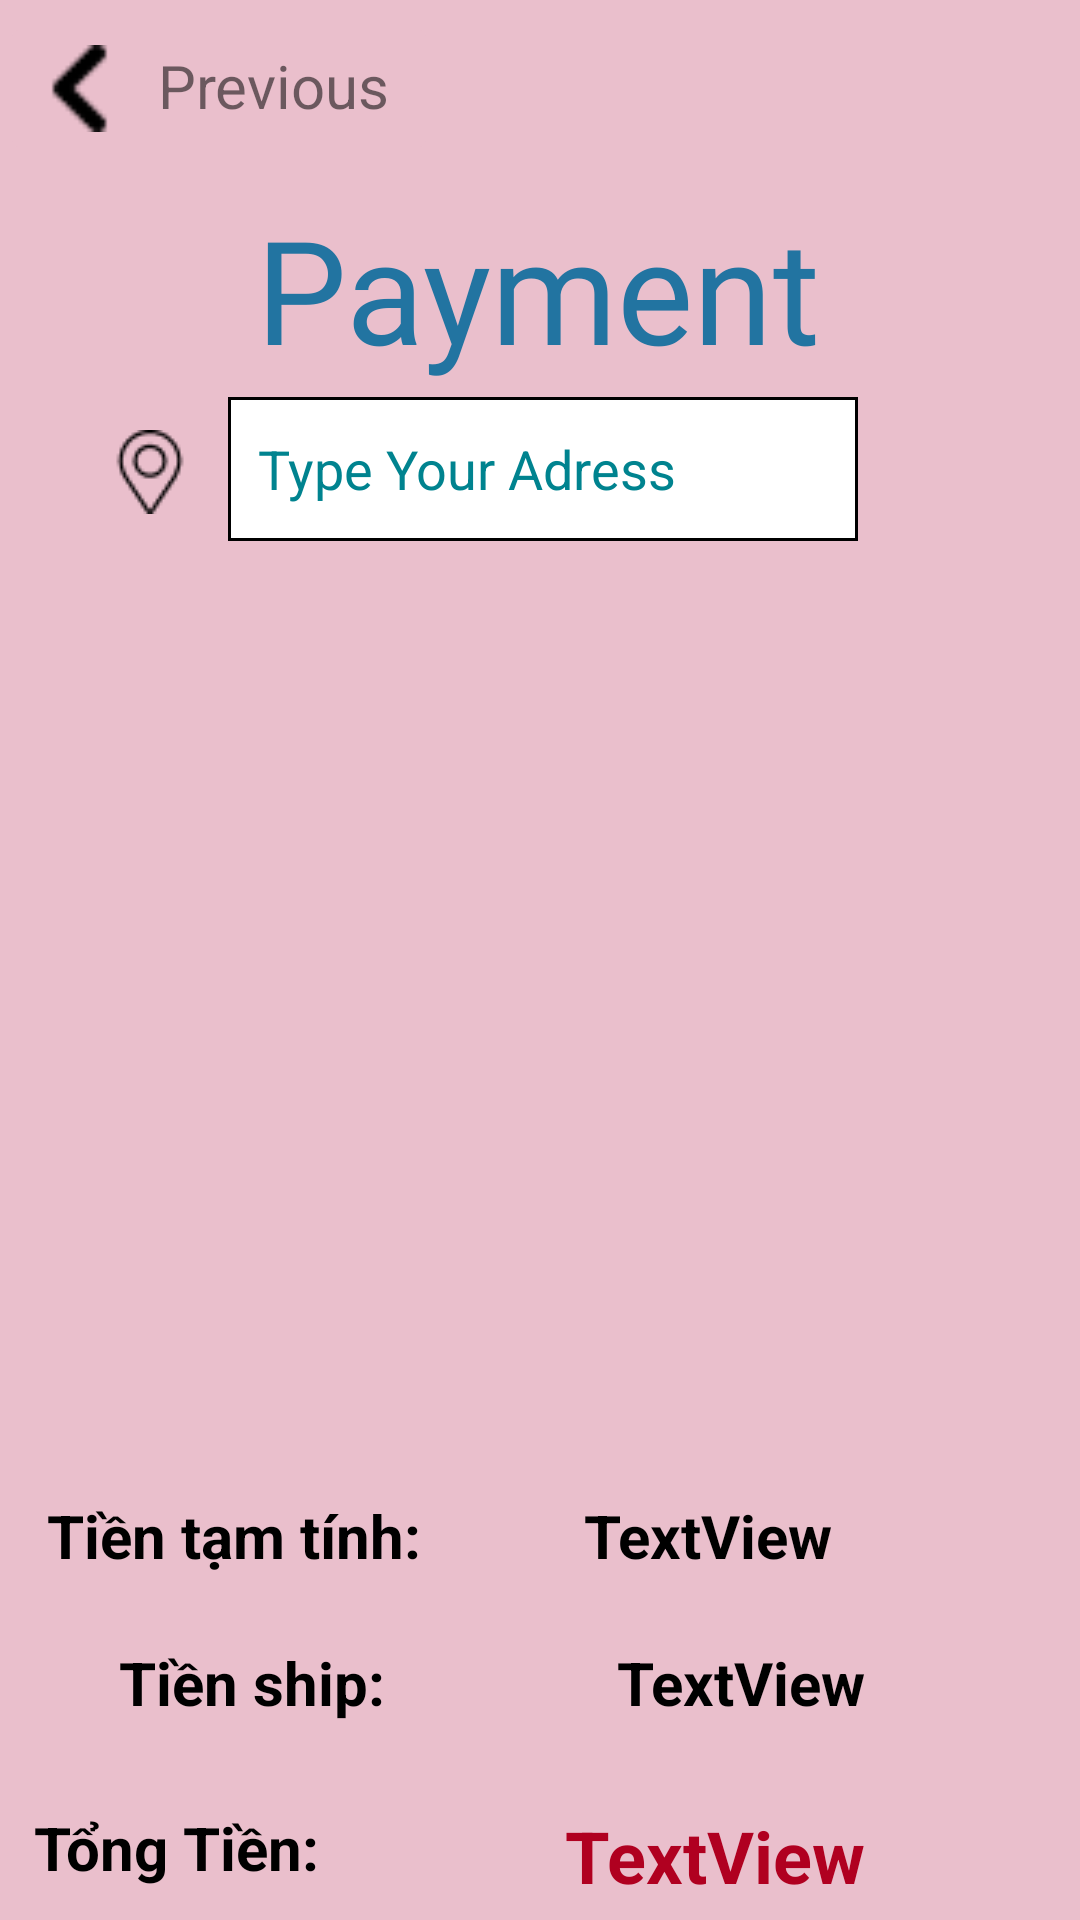

Icon bounding boxes for this 1080px×1920px phone screenshot, format (x1, y1, x2, y2):
pin: (116, 430, 184, 514)
